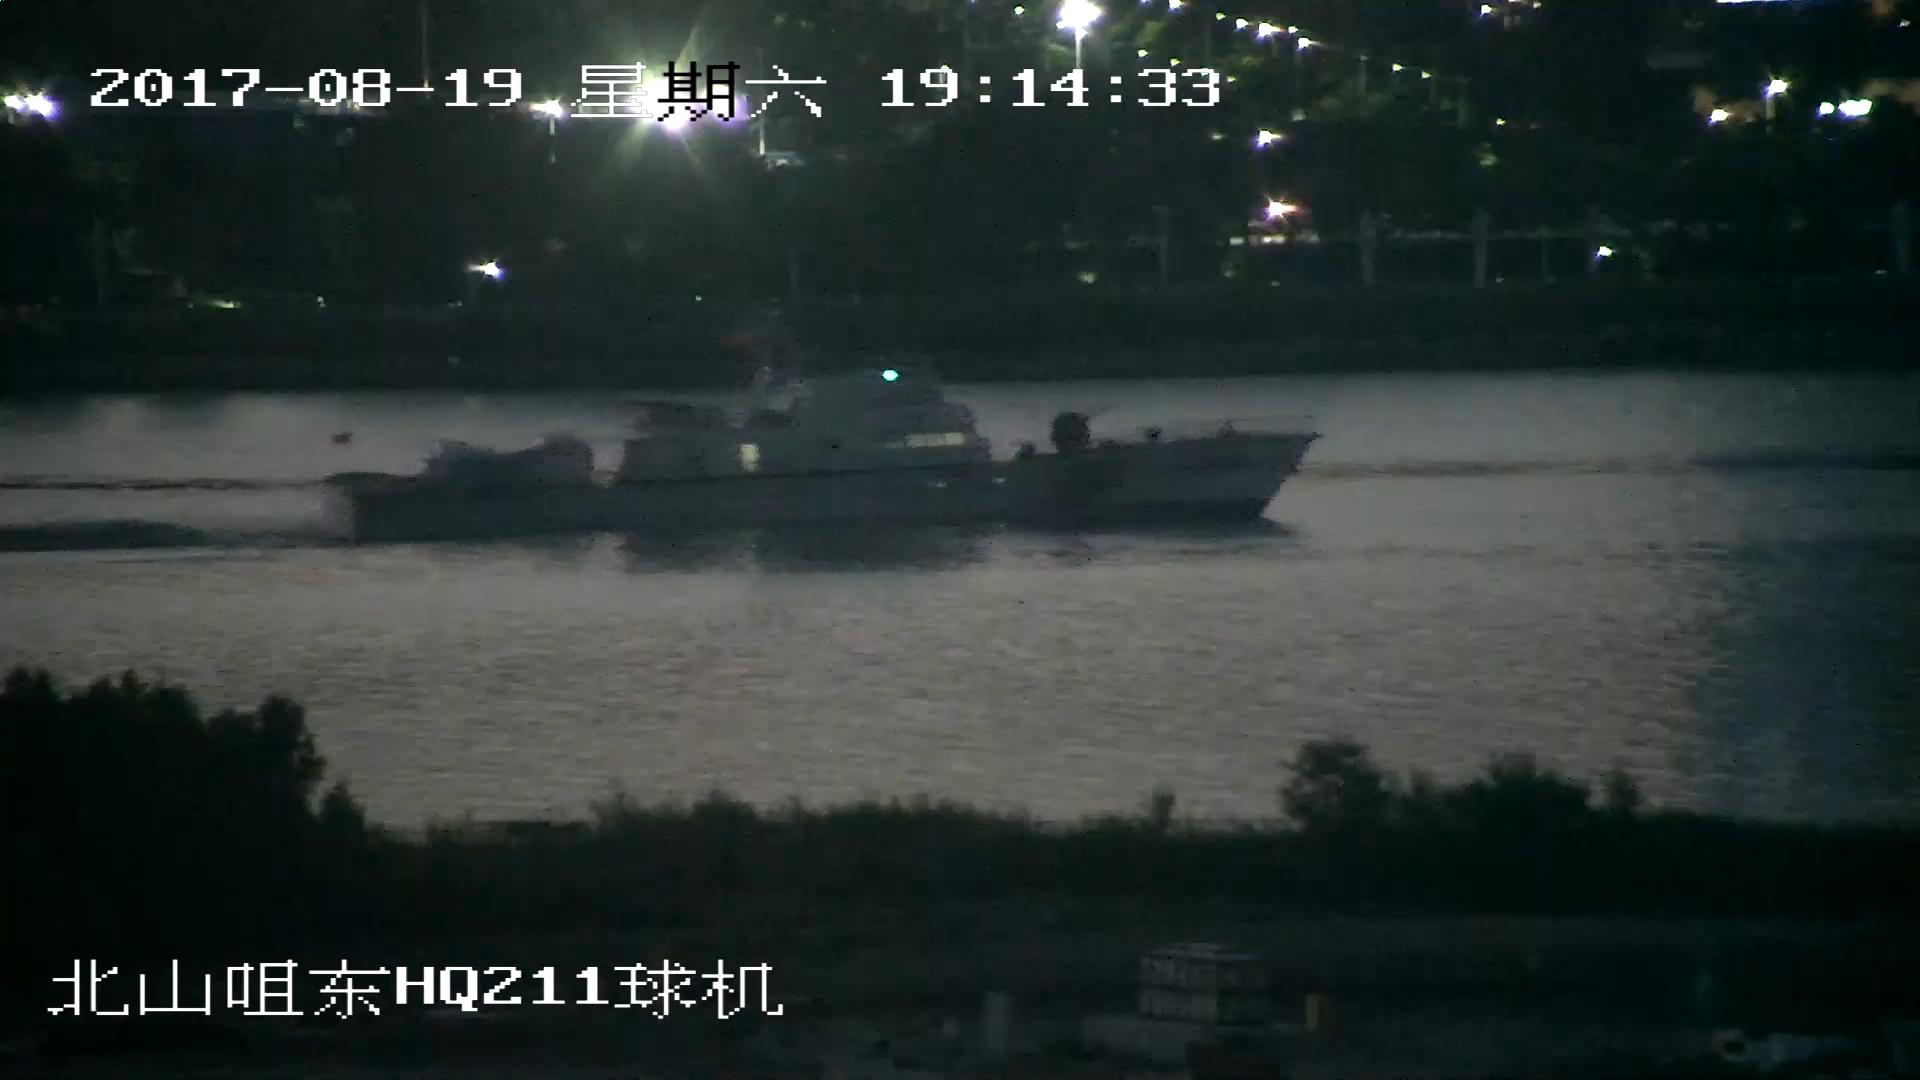passenger ship: (322, 324, 1320, 542)
